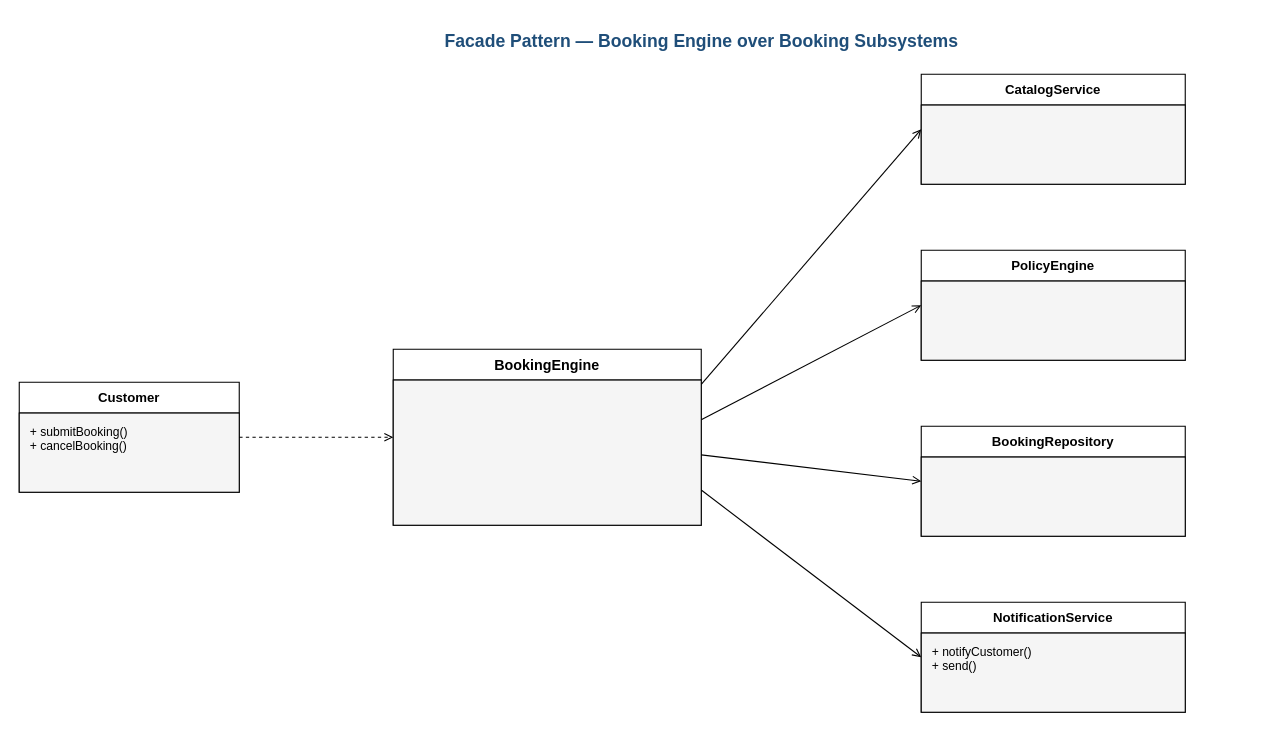
This 1271x732 diagram has some shape labels left out. The centre of each missing label's shape, as x and y in pixels:
"+ checkAvailability() + updateCapacity()" belongs at [1052,144].
"+ create() + markCancelled()" belongs at [1052,496].
"+ submitBookingRequest() + cancelBooking() + getBookingStatus()" belongs at [546,452].
"+ validateCancellation() + checkEligibility()" belongs at [1052,320].
